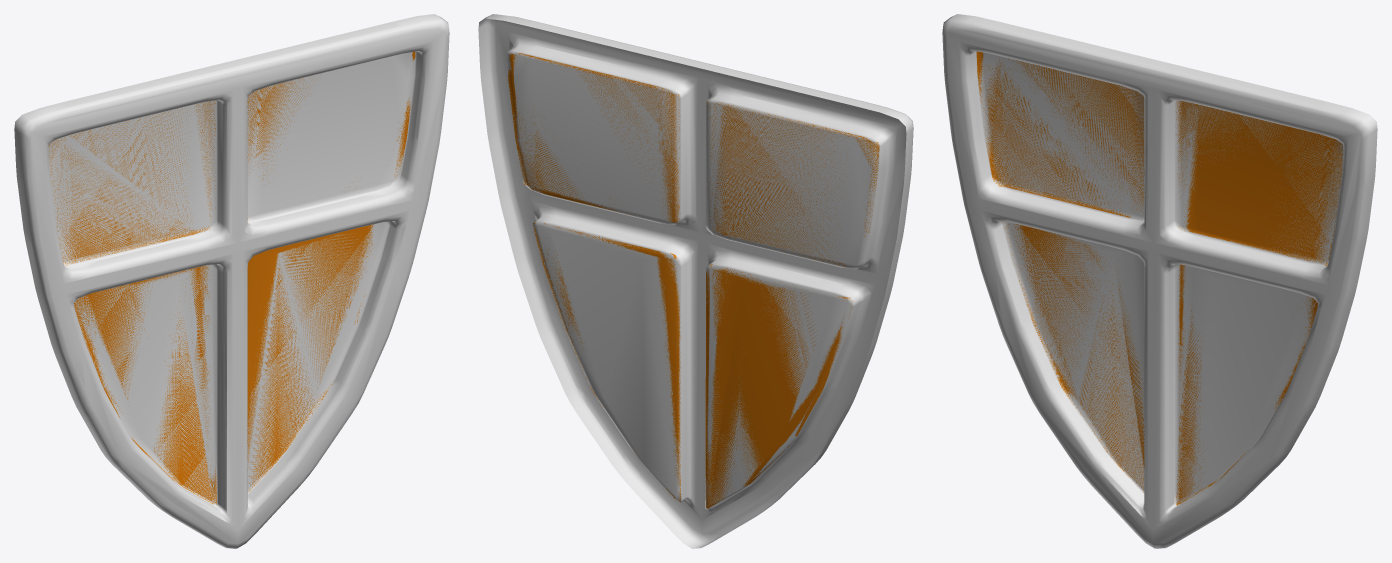
Rendered from Geo_Shield_Pow_Up.fbx.
The picture shows the model from 3 angles, left to right: view 1: azimuth 30°, elevation 25°; view 2: azimuth 150°, elevation 25°; view 3: azimuth 330°, elevation 25°; orthographic projection.
Parts seen in each view (by area): view 1: Plane.009, Plane.010; view 2: Plane.009, Plane.010; view 3: Plane.009, Plane.010.
Part boxes in pixels (x1=…): Plane.009: x1=14, y1=20, x2=449, y2=548; Plane.010: x1=14, y1=14, x2=449, y2=548; Plane.009: x1=478, y1=16, x2=913, y2=548; Plane.010: x1=478, y1=14, x2=913, y2=546; Plane.009: x1=942, y1=15, x2=1377, y2=547; Plane.010: x1=942, y1=14, x2=1377, y2=548.
Bounding box in the file's own units: 72.01 × 77.55 × 2.9.
